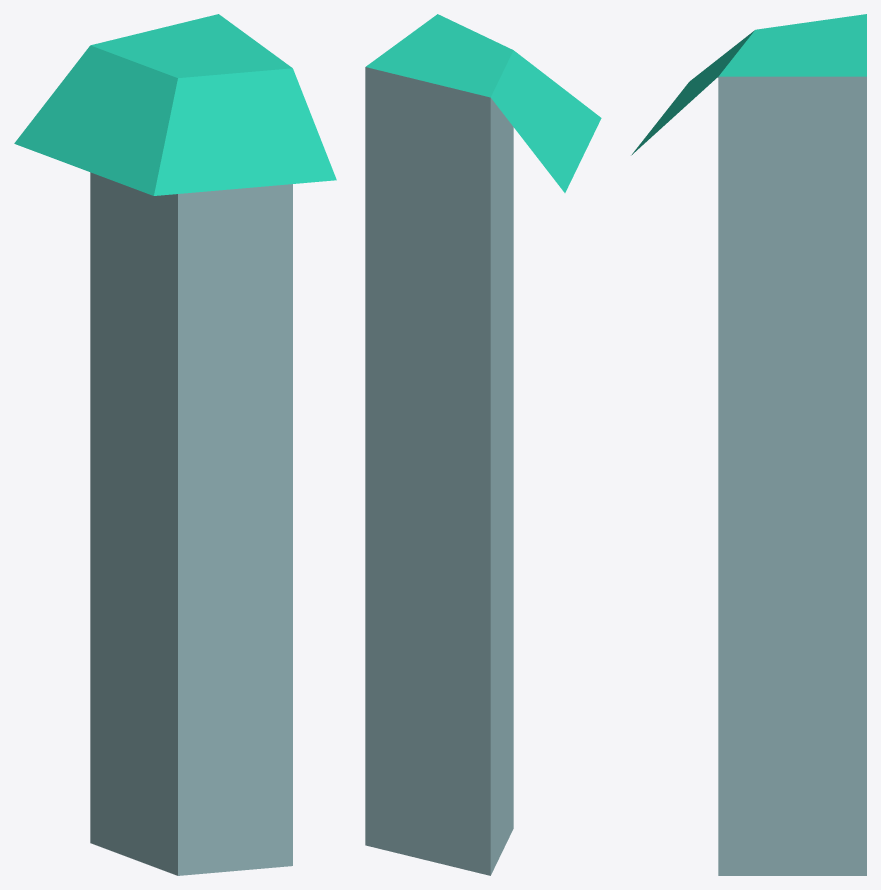
The model's file is cliff_cornerTop_stone.obj.
The picture shows the model from 3 angles, left to right: view 1: azimuth 30°, elevation 25°; view 2: azimuth 150°, elevation 25°; view 3: azimuth 270°, elevation 25°; orthographic projection. The views are drawn at different scales.
Visible parts, largest first — view 1: cliff_cornerTop_stone; view 2: cliff_cornerTop_stone; view 3: cliff_cornerTop_stone.
Boxes of the visible parts, x1,y1,x2,y2 form: cliff_cornerTop_stone: [14, 14, 336, 875]; cliff_cornerTop_stone: [365, 14, 601, 875]; cliff_cornerTop_stone: [631, 14, 866, 875].
Size of the model in its own units: 0.2685 by 1 by 0.2685.
